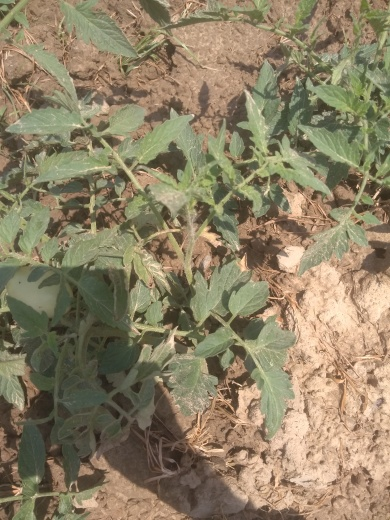tomato diseased leaf: (84, 411, 138, 470), (128, 244, 174, 296)
tomato plant: (11, 90, 271, 507)
